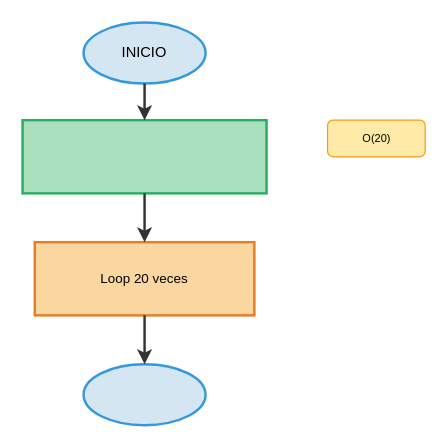
Some shapes in this 447 by 447 pixel diagram are drawn without their labels. Here are the shapes that lost their labels. From the top down, the box of each, then its label:
(21, 118, 267, 194): Leer inicio
(82, 362, 206, 426): FIN
